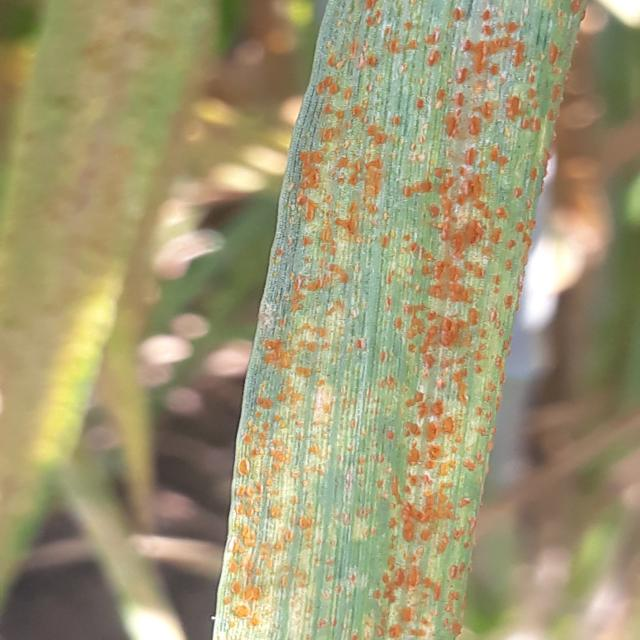orang_rust: (213, 0, 596, 640)
